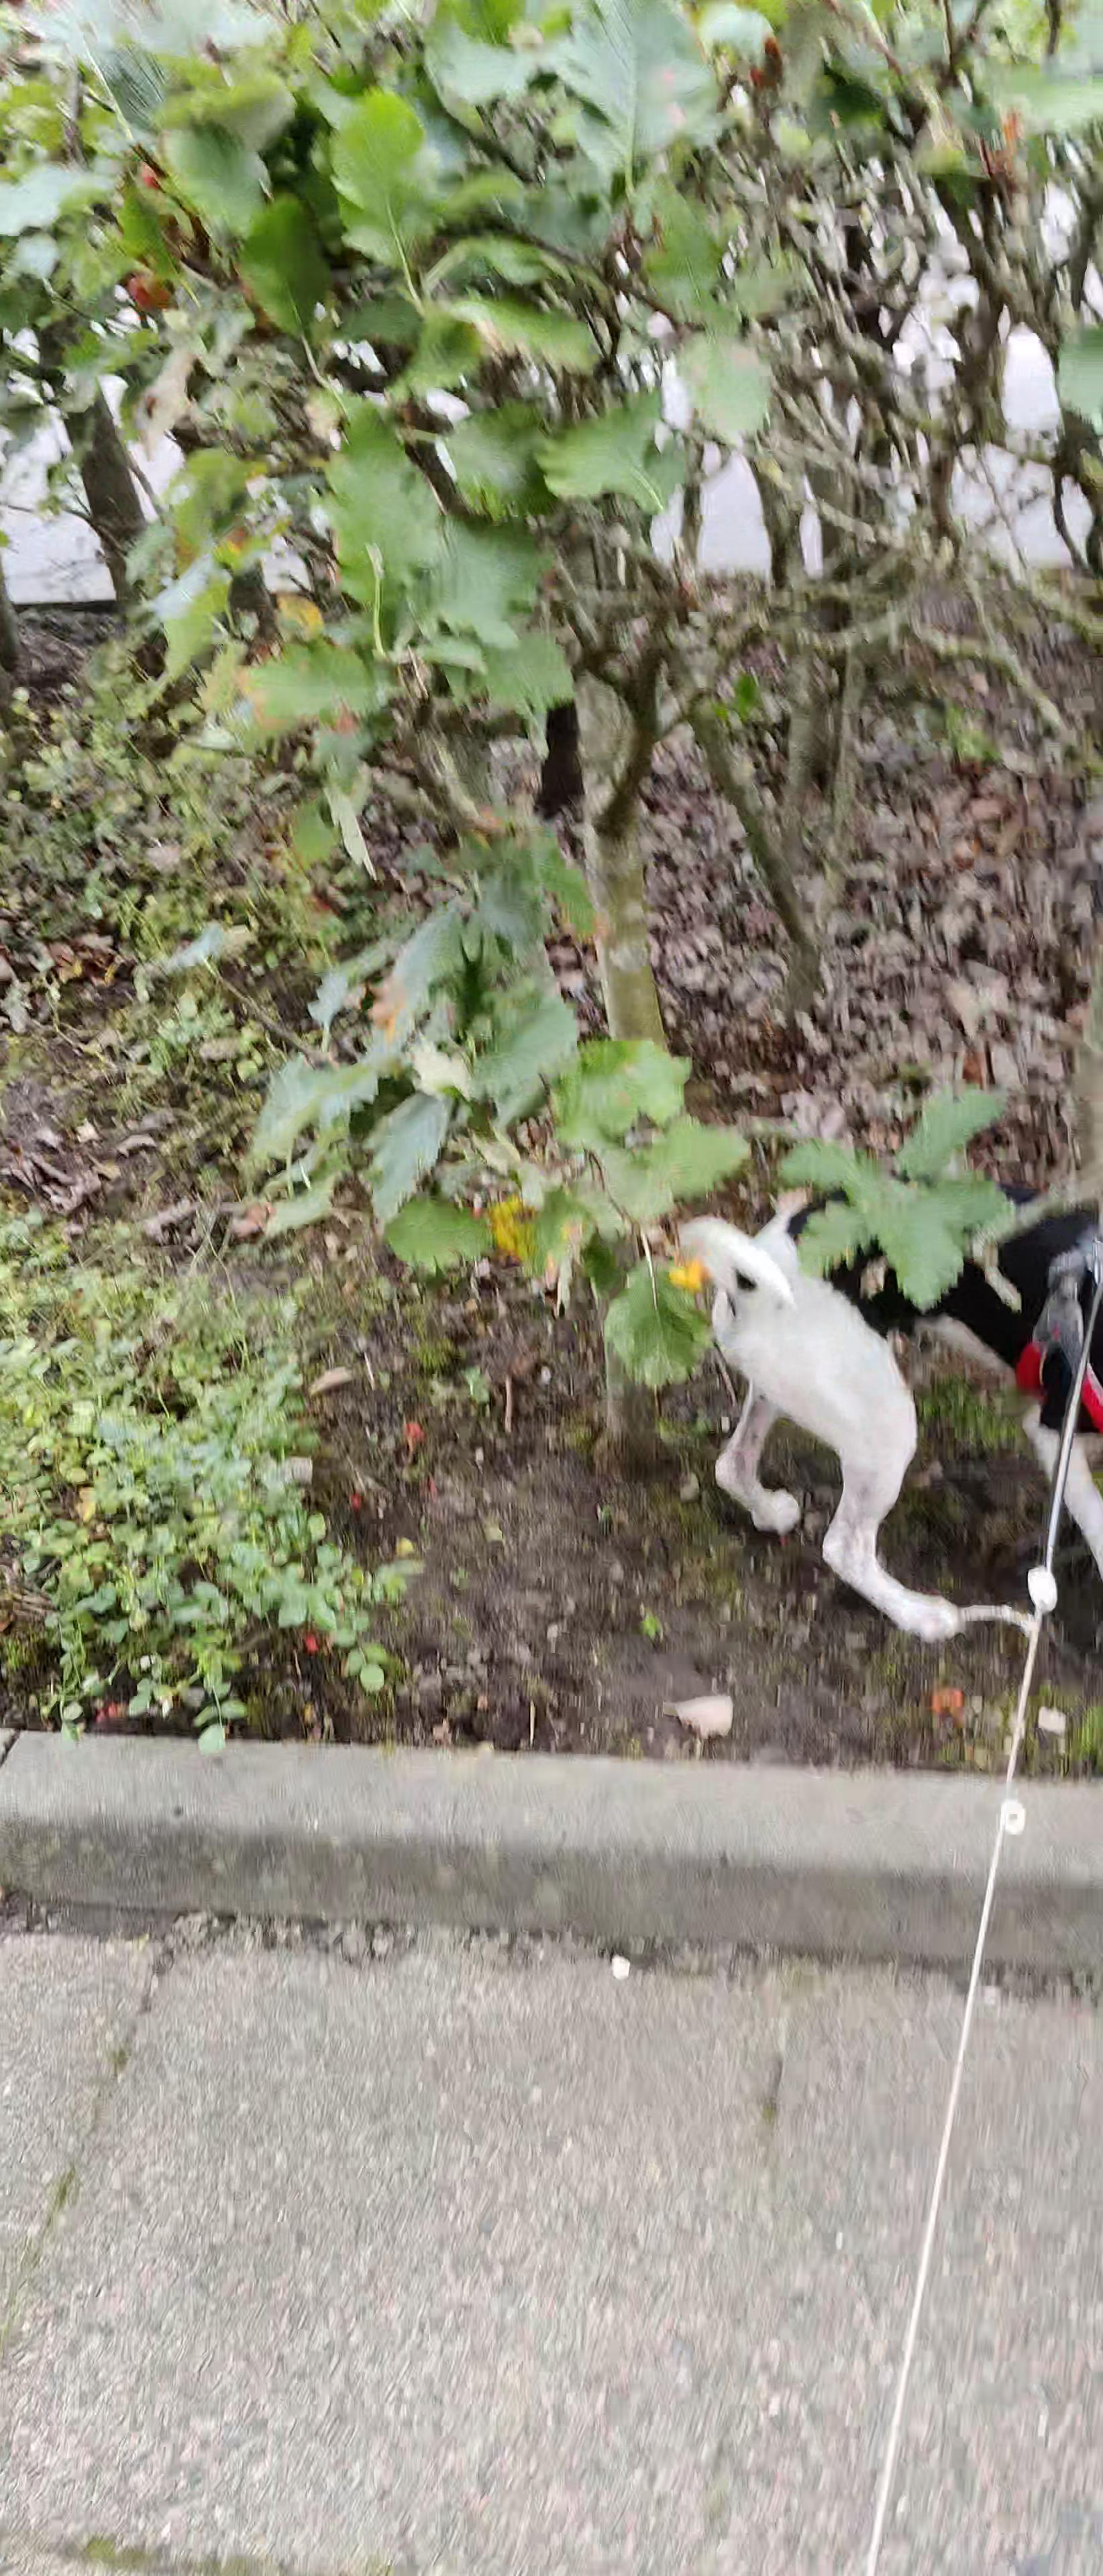Dog: (664, 1158, 1103, 1649)
